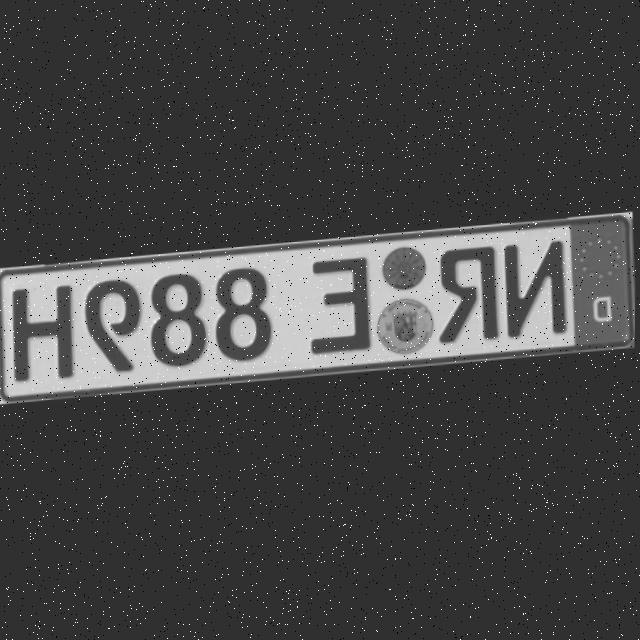license-plates: (0, 214, 635, 403)
